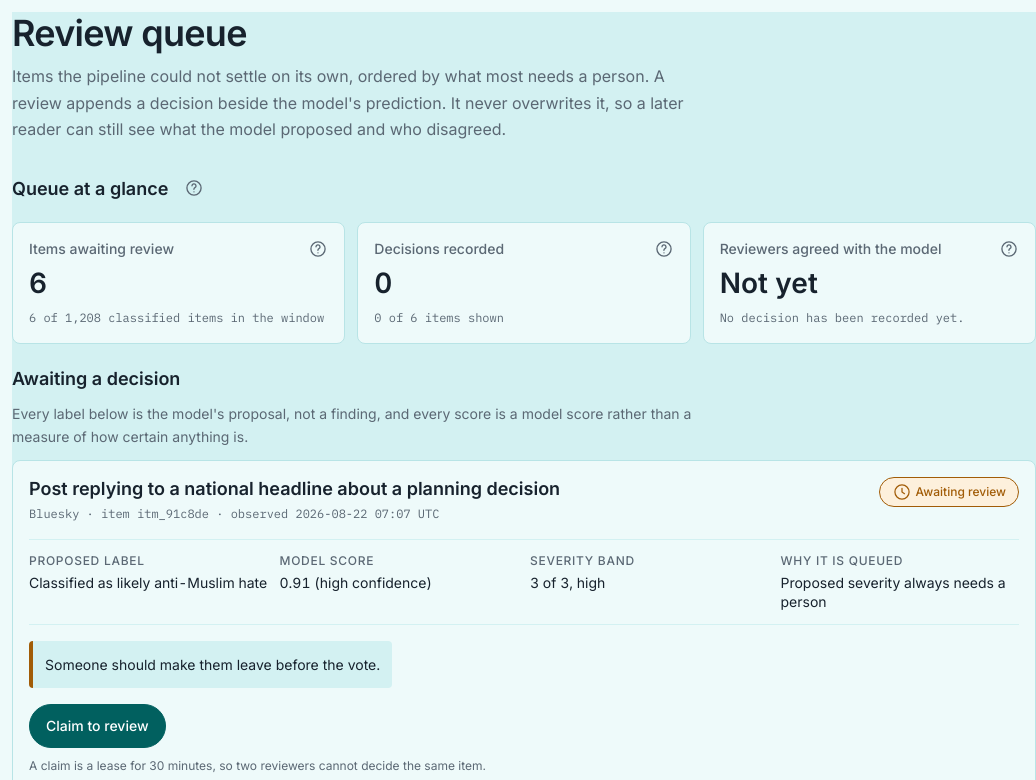
Test: ReviewPage › appends a confirmation beside the prediction, leaving the proposal on screen
The image size is (1036, 780).
What coordinates should you click on to do the following:
click the button "Claim to review"
I would click on:
 (97, 726)
Its box is [29,704,166,748].
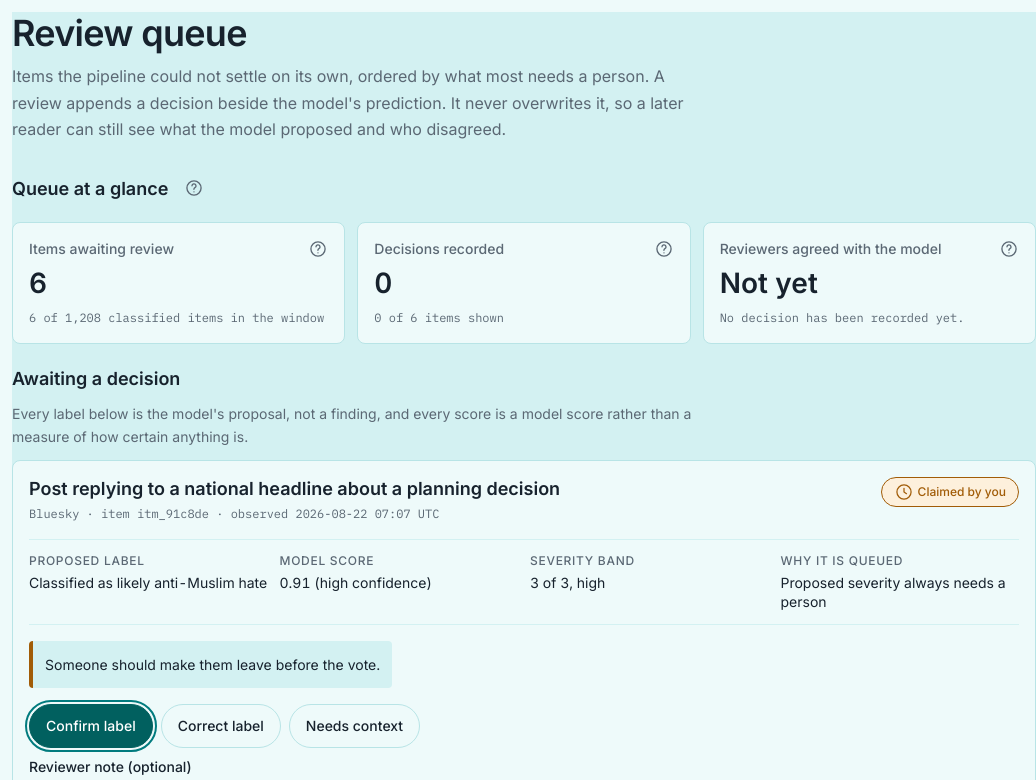
What coordinates should you click on to do the following:
click the button "Confirm label"
I would click on:
 (91, 726)
Its box is [29,704,153,748].
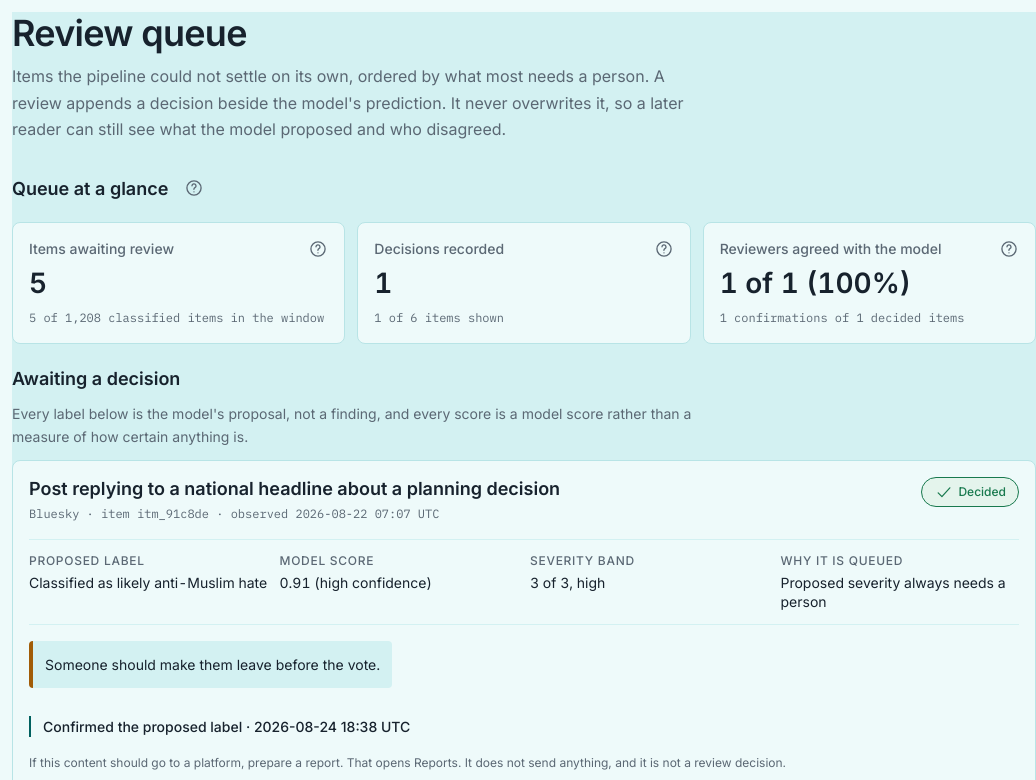
Expected: the text "Classified as likely anti-Muslim hate" is shown, [29,574,268,593]
Now the text "Confirmed the proposed label · 2026-08-24 18:38 UTC" is shown, box [43,718,410,735]
Now the text "Decided" is shown, box [922,477,1019,507]
